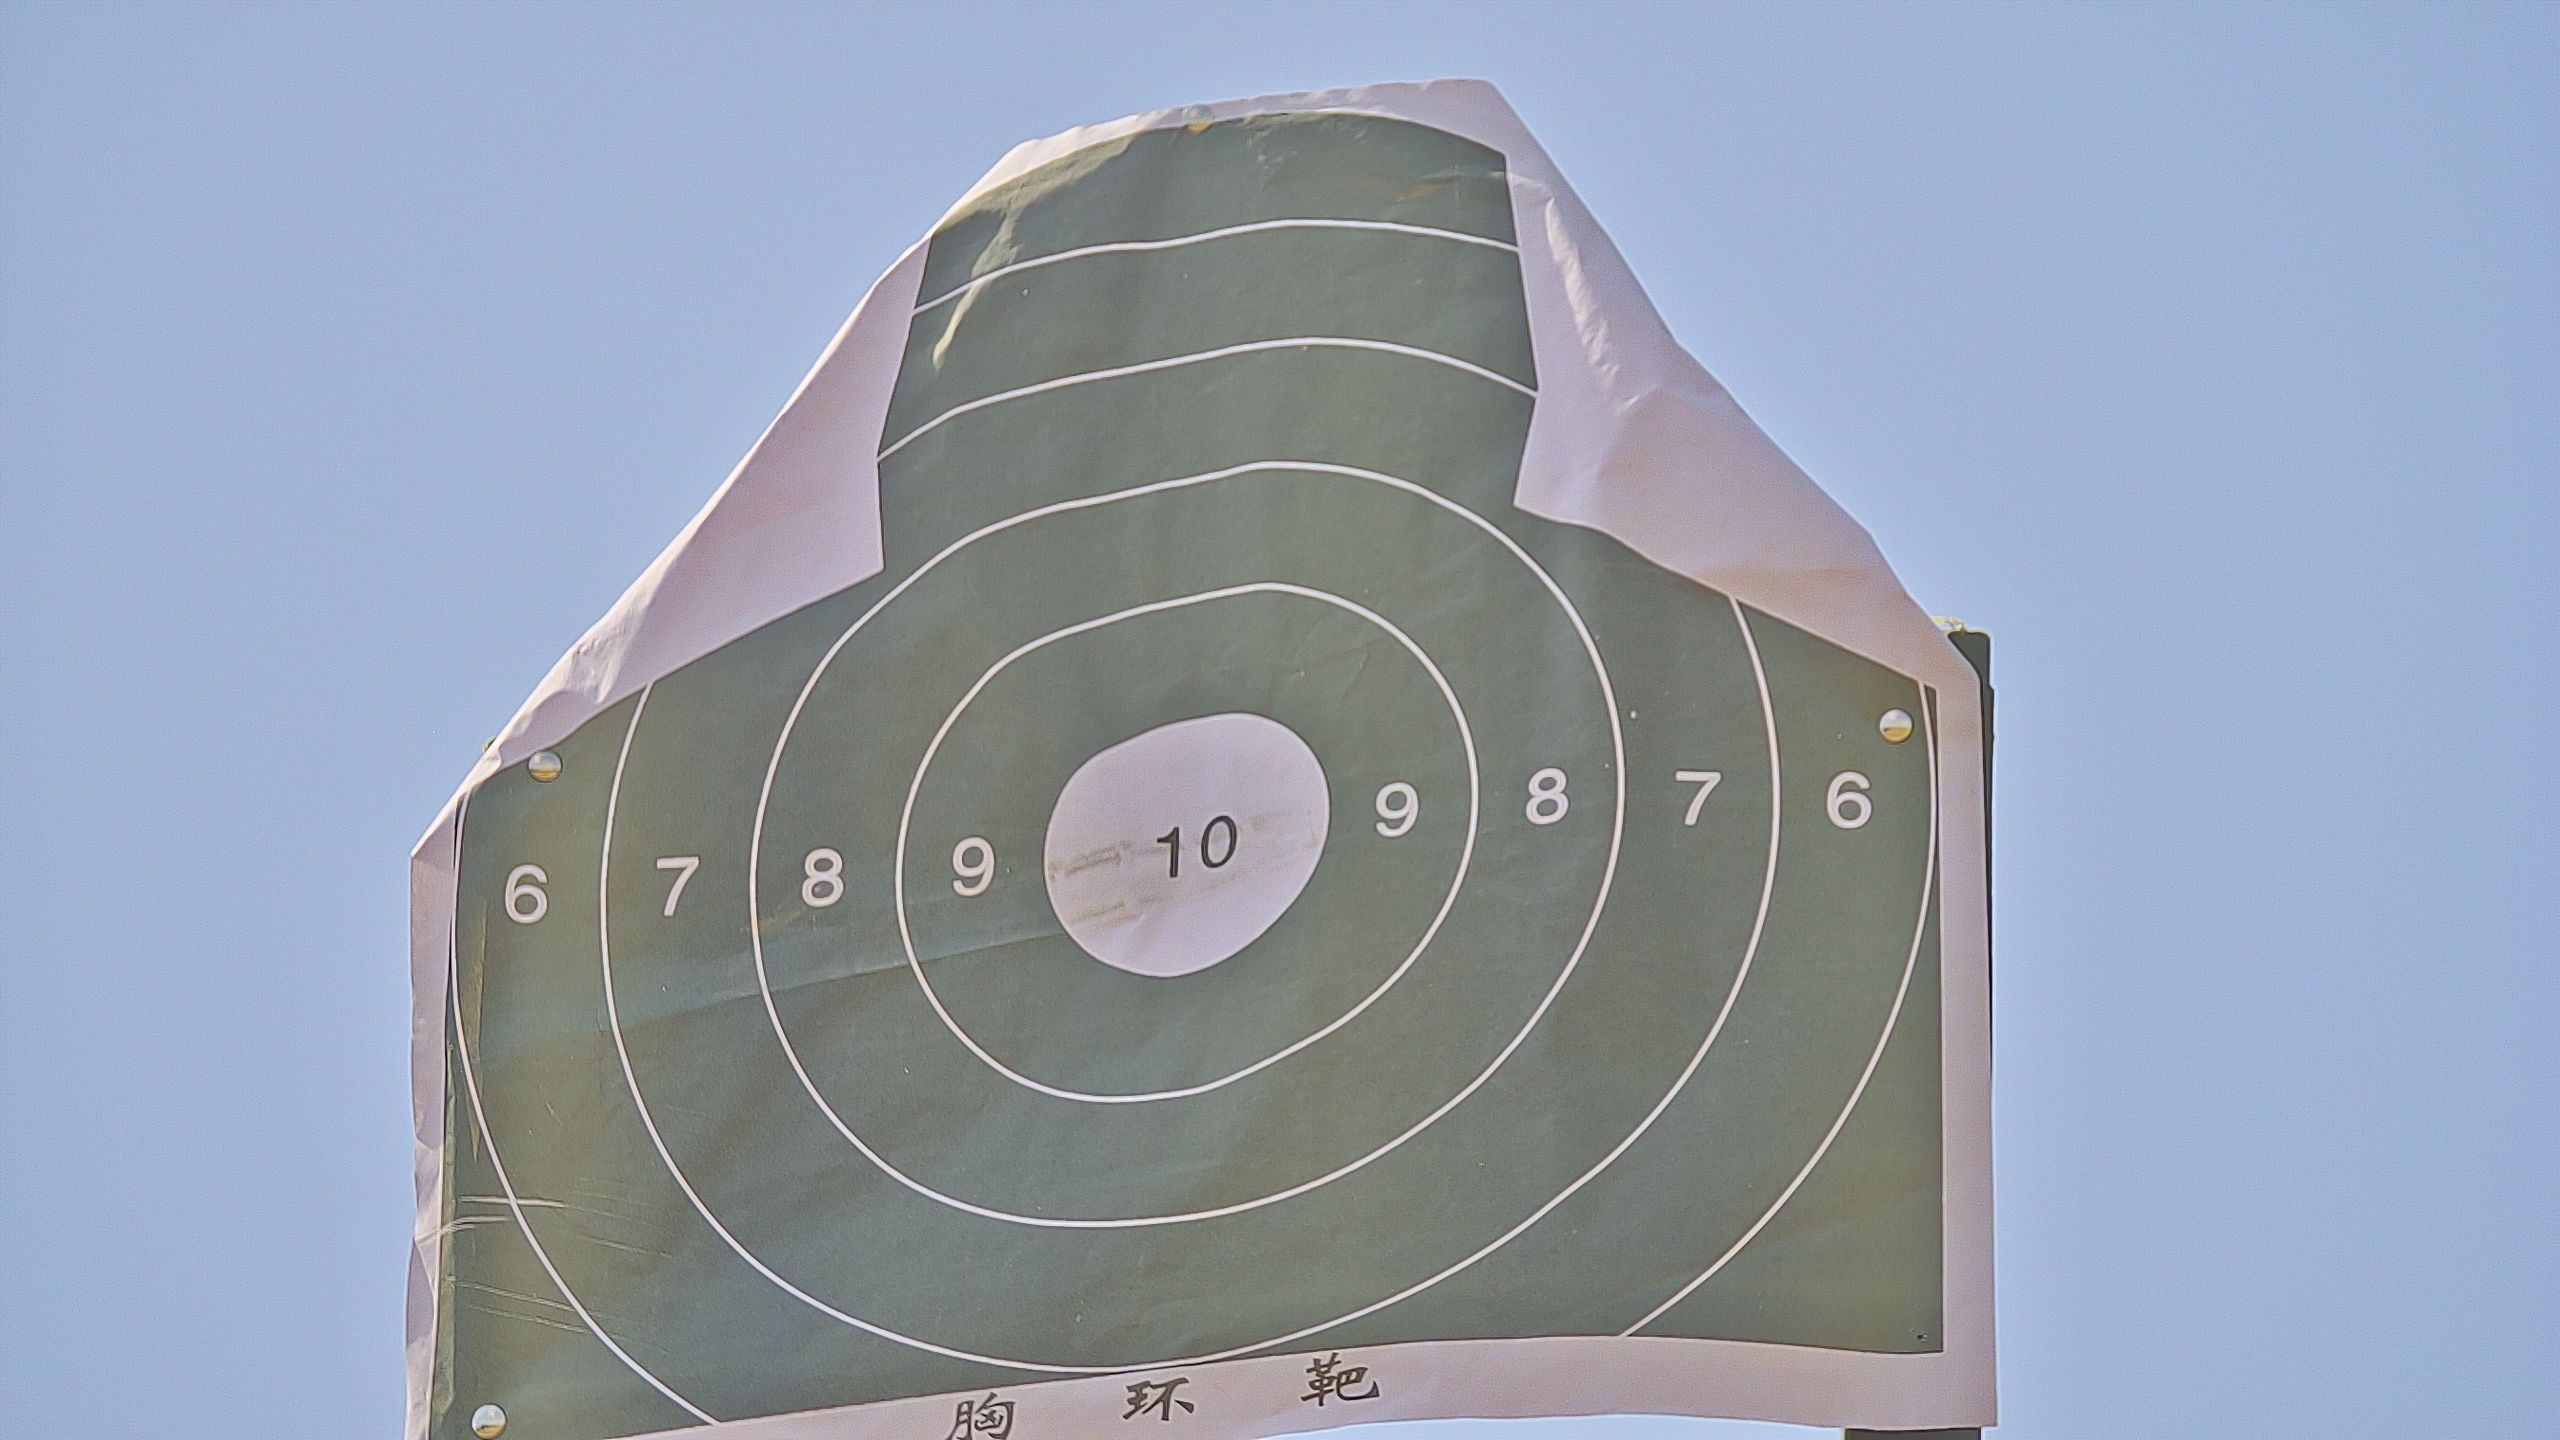kernel: (1190, 851, 1194, 856)
target: (422, 118, 1955, 1436)
ten: (1039, 714, 1336, 983)
